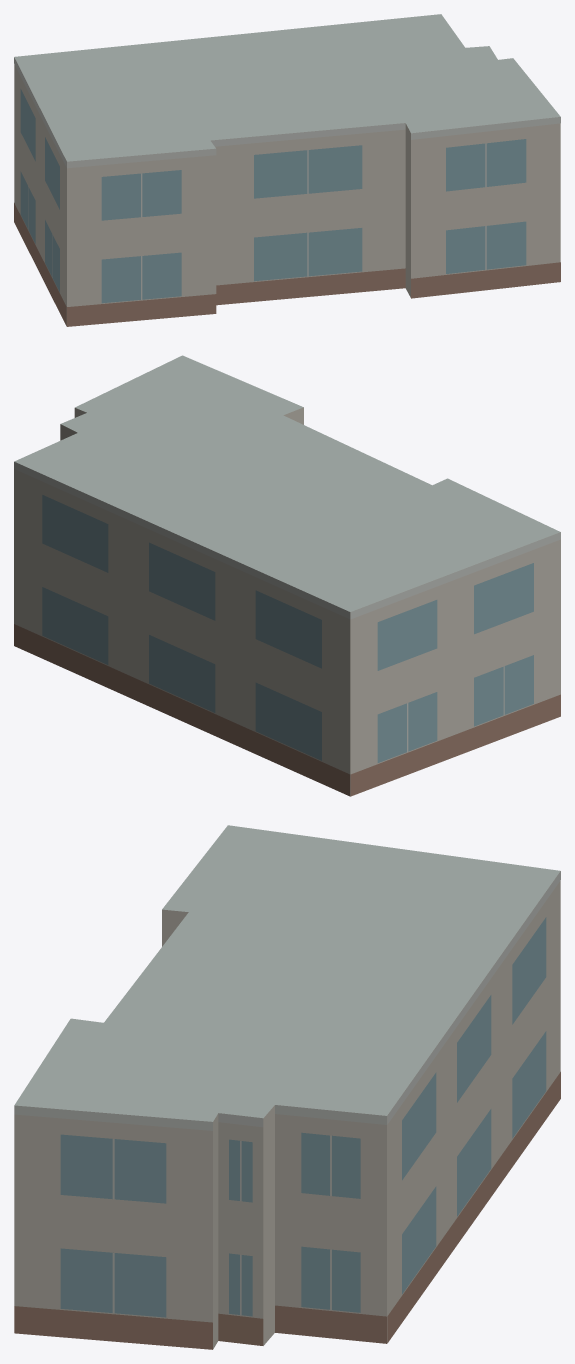
File: survey-upis-32801833.glb
3 renders of one model, top to bottom at view 1: azimuth 30°, elevation 25°; view 2: azimuth 150°, elevation 25°; view 3: azimuth 270°, elevation 25°, orthographic. The views are drawn at different scales.
Parts seen in each view (by area): view 1: survey-upis-32801833.tmp; view 2: survey-upis-32801833.tmp; view 3: survey-upis-32801833.tmp.
Part boxes in pixels (x1,y1,x2,y2): survey-upis-32801833.tmp: [14, 14, 560, 326]; survey-upis-32801833.tmp: [14, 355, 560, 796]; survey-upis-32801833.tmp: [14, 825, 560, 1349].
Bounding box in the file's own units: 17.05 × 6.1 × 13.27.
